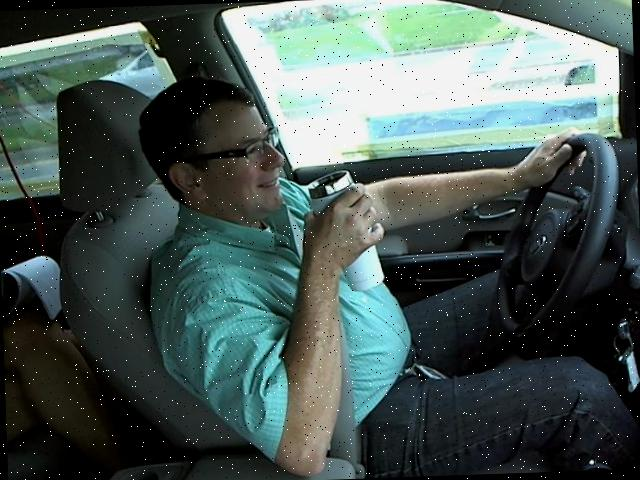c4 - Drinking: (115, 56, 633, 476)
